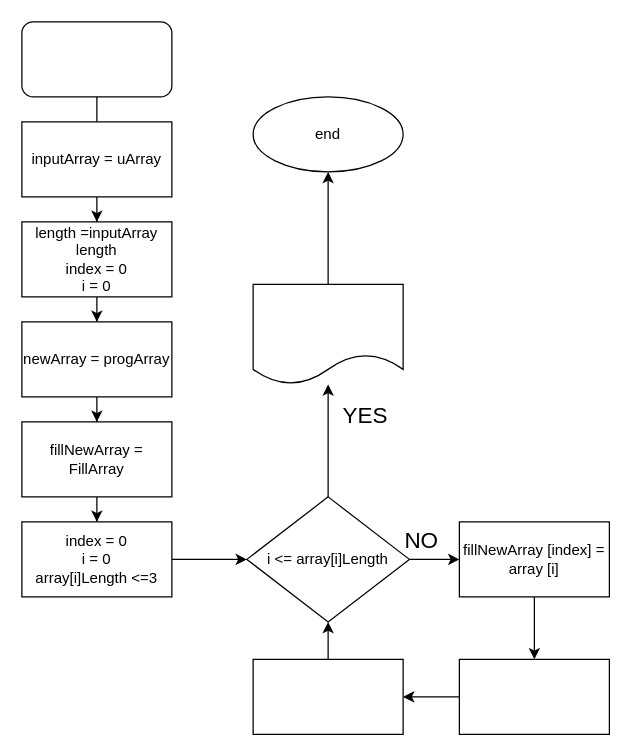
Image size: 631x756. Some labels were removed from this diagram. The shapes that lost their labels are listed below. From the top down, each one's centre as x and y in pixels, then its label:
At [96,59]: "Start".
At [327,333]: "Print inputArray Print newArray".
At [327,696]: "i = i + 1".
At [533,696]: "index = index + 1".
